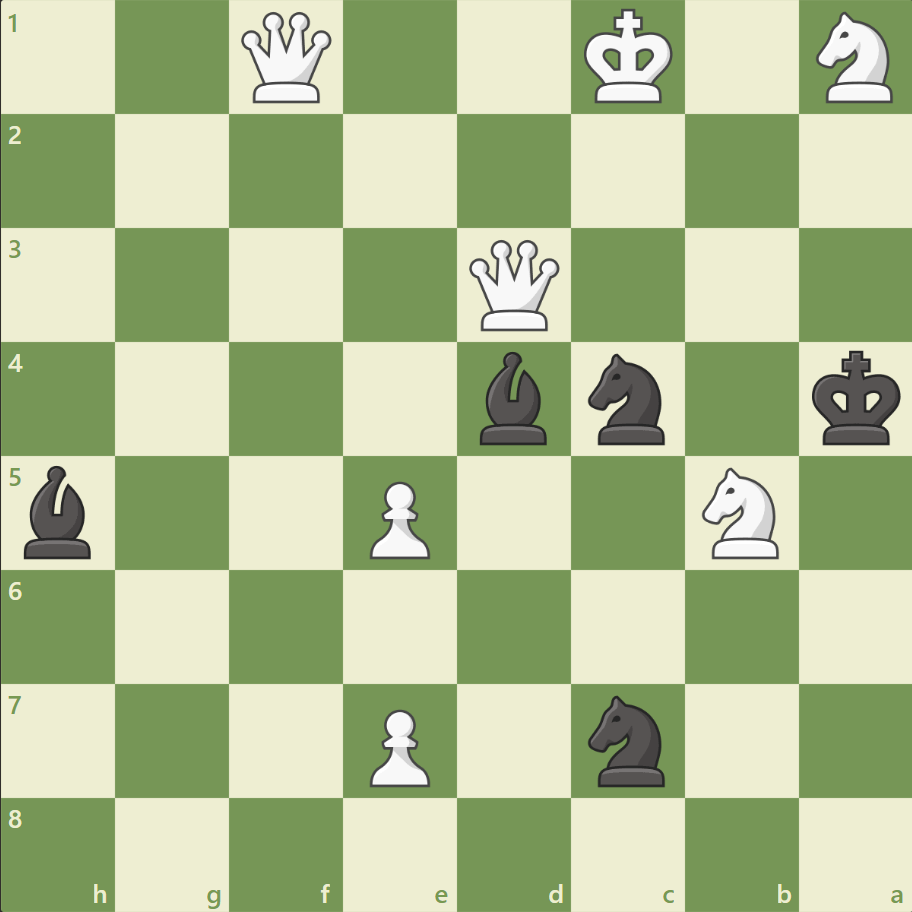K: (579, 4, 679, 112)
N: (692, 461, 789, 564), (806, 7, 903, 110)
P: (361, 700, 435, 791), (361, 473, 435, 564)
Q: (464, 236, 563, 335), (237, 9, 336, 108)
b: (17, 460, 101, 563), (471, 347, 555, 449)
k: (806, 344, 906, 452)
n: (579, 688, 676, 791), (579, 348, 676, 450)
